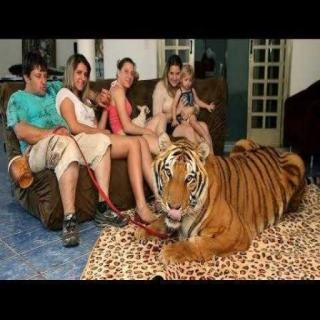Tiger: (139, 135, 311, 266)
